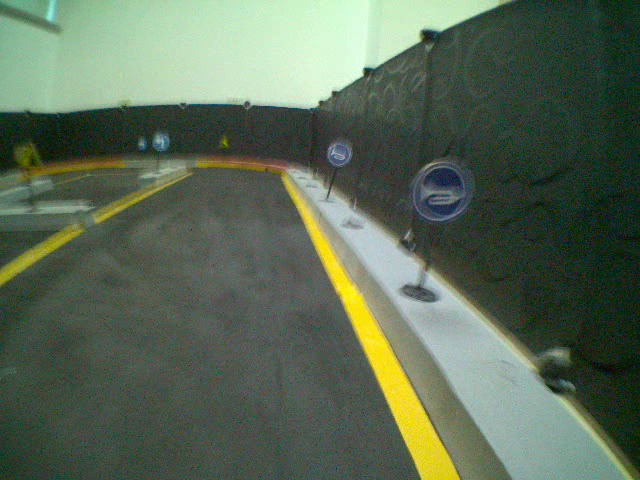horn: (413, 160, 471, 221), (326, 141, 351, 169)
turn: (150, 132, 168, 152)
